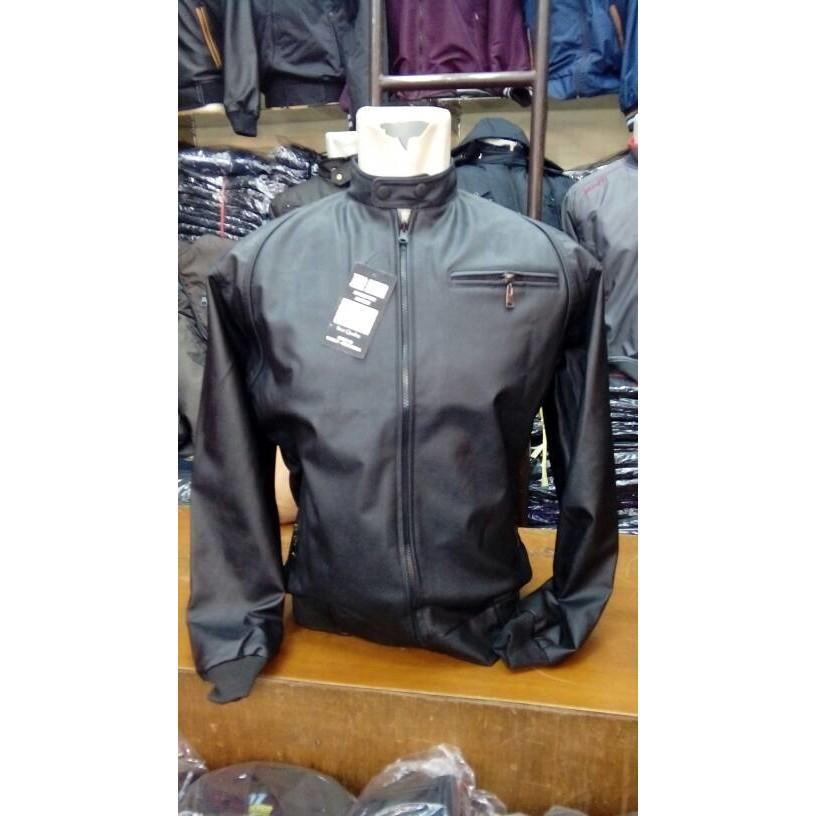jacket: (189, 163, 629, 709)
